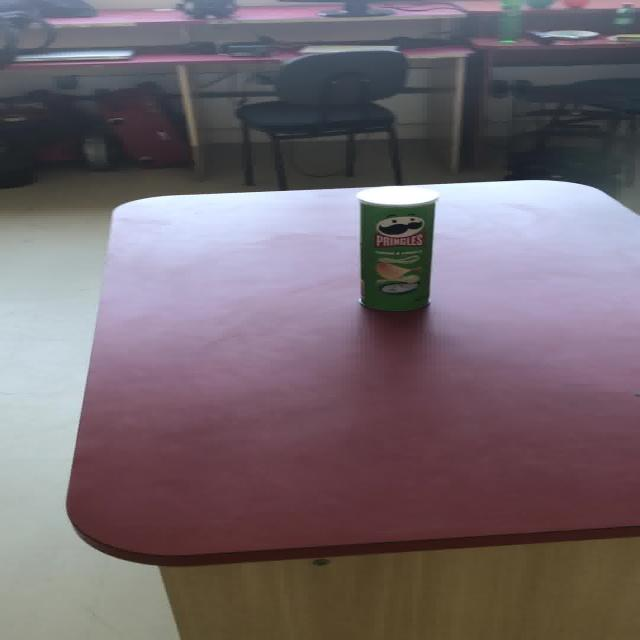pringles: (354, 184, 438, 311)
